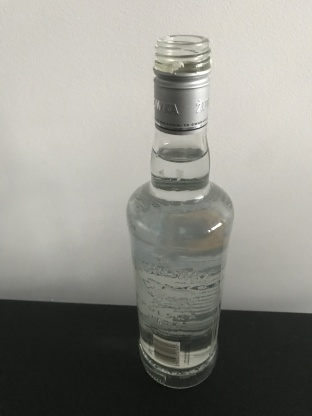nakretka: (150, 32, 213, 136)
